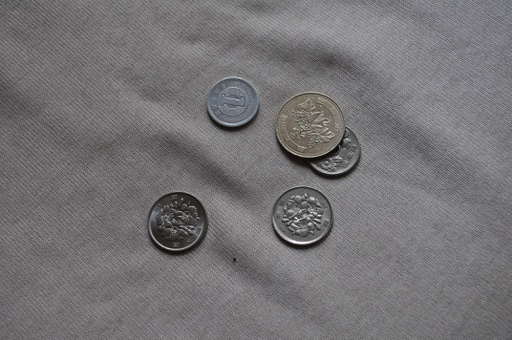100yen: (273, 187, 332, 245), (149, 193, 206, 252)
1yen: (206, 76, 258, 128)
500yen: (275, 91, 344, 158)
50yen: (307, 126, 360, 175)
